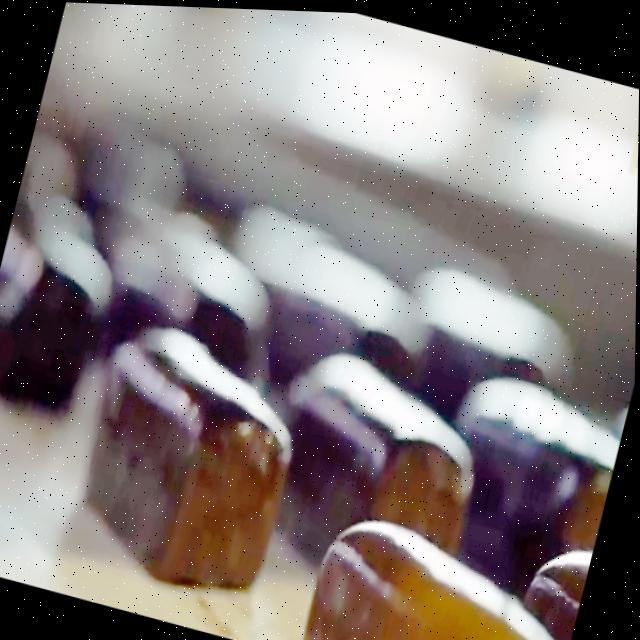Choco: (59, 303, 320, 607), (252, 330, 500, 590), (431, 346, 628, 591), (297, 494, 587, 640)
